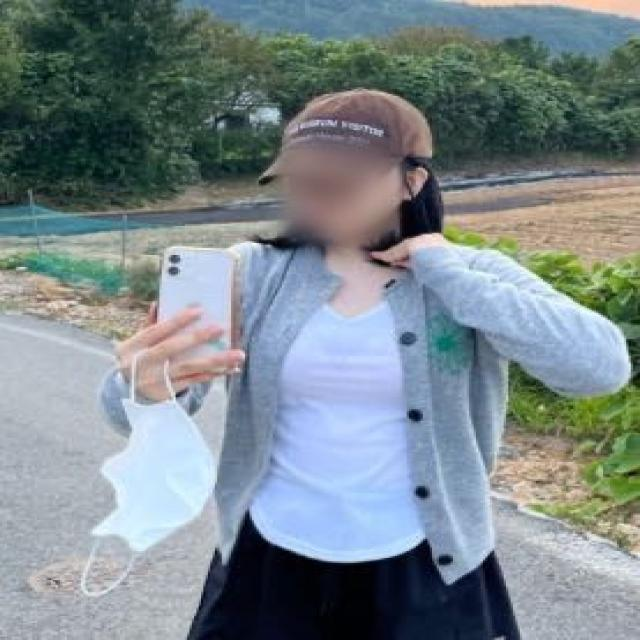cottonpants: (94, 234, 632, 588)
skirt: (187, 514, 534, 640)
